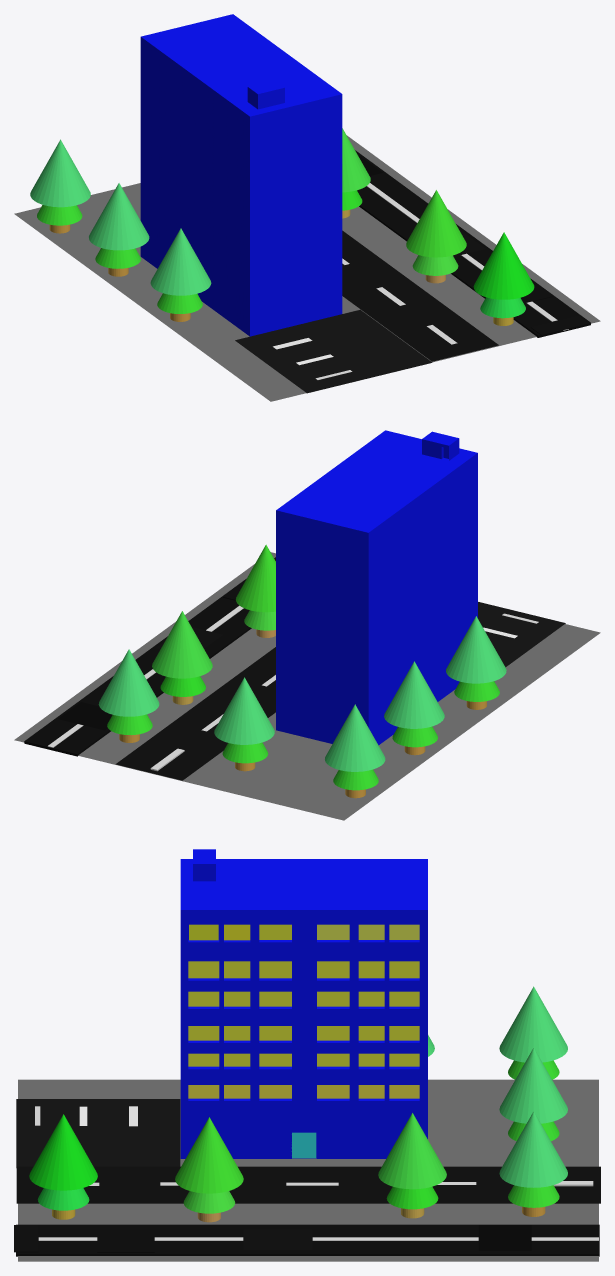
The model's file is farel.glb.
3 renders of one model, top to bottom at view 1: azimuth 30°, elevation 25°; view 2: azimuth 150°, elevation 25°; view 3: azimuth 270°, elevation 25°, orthographic. The views are drawn at different scales.
Visible parts, largest first — view 1: Cube, Cube.008, Cube.009, Cube.013, Cube.014, Cone.010, Cone.007, Cone.014, Cone.003, Cone.013, Cone, Cone.006 (+6 smaller); view 2: Cube, Cube.008, Cube.013, Cube.014, Cube.009, Cone.005, Cone.014, Cone, Cone.010, Cone.013, Cone.008, Cone.003 (+8 smaller); view 3: Cube, Cube.008, Cube.013, Cube.014, Cube.005, Cube.009, Cone.003, Cone.007, Cone.005, Cone, Cone.008, Cone.010 (+12 smaller).
Part boxes in pixels (box(x1,y1,x2,y2)): Cube: box(140, 14, 342, 336); Cube.008: box(14, 135, 600, 401); Cube.009: box(235, 309, 432, 393); Cube.013: box(342, 230, 498, 361); Cube.014: box(355, 150, 590, 337); Cone.010: box(30, 139, 90, 207); Cone.007: box(473, 232, 534, 299); Cone.014: box(150, 228, 211, 295); Cone.003: box(406, 190, 466, 257); Cone.013: box(89, 183, 149, 250); Cone: box(342, 128, 370, 192); Cone.006: box(480, 297, 525, 318); Cube: box(276, 430, 477, 745); Cube.008: box(14, 552, 600, 820); Cube.013: box(115, 647, 275, 780); Cube.014: box(24, 557, 275, 756); Cube.009: box(478, 602, 565, 667); Cone.005: box(98, 649, 159, 716); Cone.014: box(446, 616, 506, 683); Cone: box(152, 611, 212, 678); Cone.010: box(325, 704, 385, 771); Cone.013: box(384, 661, 444, 728); Cone.008: box(214, 677, 274, 744); Cone.003: box(236, 544, 275, 612); Cube: box(180, 849, 427, 1158); Cube.008: box(18, 1079, 598, 1261); Cube.013: box(16, 1166, 600, 1203); Cube.014: box(16, 1224, 599, 1256); Cube.005: box(188, 961, 419, 1066); Cube.009: box(16, 1099, 180, 1167); Cone.003: box(175, 1117, 243, 1193); Cone.007: box(29, 1114, 97, 1190); Cone.005: box(499, 1111, 567, 1187); Cone: box(378, 1113, 446, 1189); Cone.008: box(499, 1047, 567, 1123); Cone.010: box(499, 986, 567, 1062).
Bounding box in the file's own units: 70.73 × 47.99 × 93.8.
